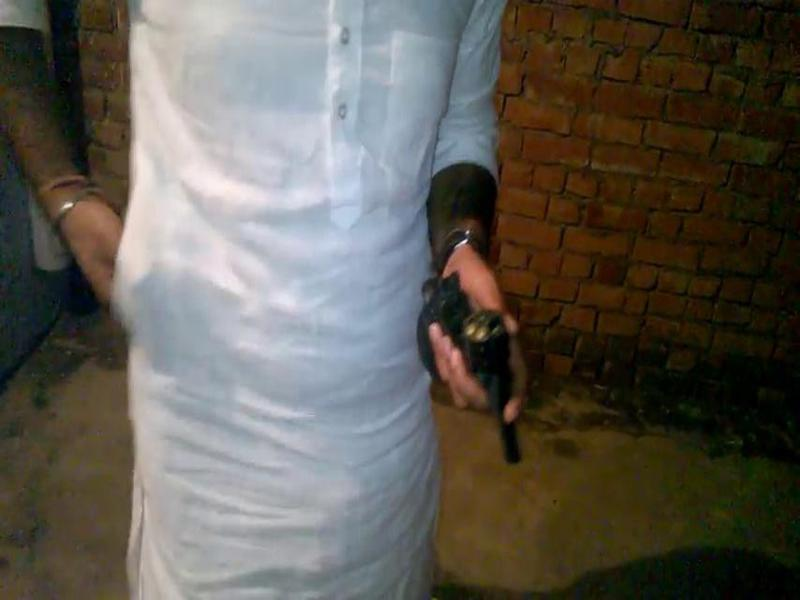Revolver: (399, 246, 537, 484)
